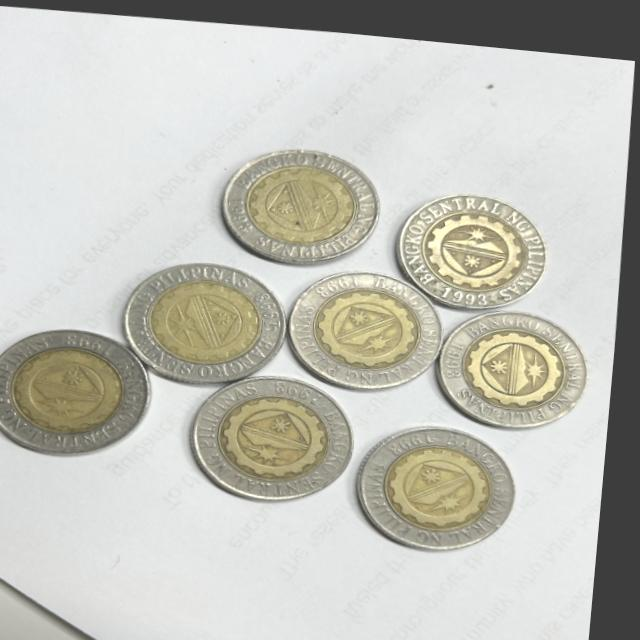10_Old_Back: (0, 328, 161, 458), (372, 413, 524, 548), (125, 256, 293, 377), (294, 258, 444, 386), (203, 370, 356, 494), (300, 262, 446, 390), (226, 138, 379, 257), (452, 295, 601, 406), (406, 184, 549, 297), (409, 359, 411, 360)
